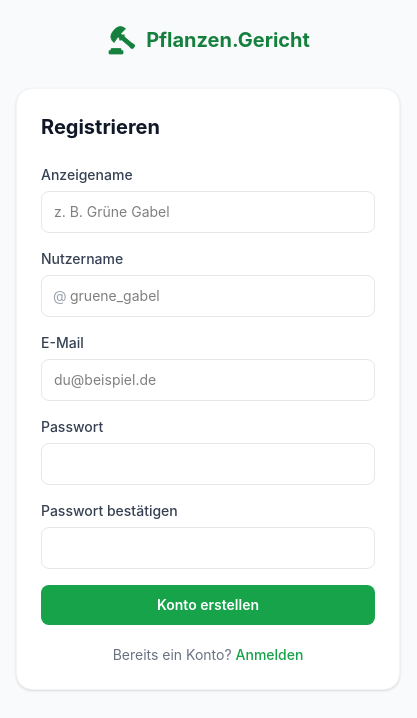
Test: RegisterView › given the username is taken › shows that it is taken
This screenshot has width=417, height=718.
Step 1. Type "taken_name" into the field with id "username" → x=208, y=296, box [41,275,375,317]
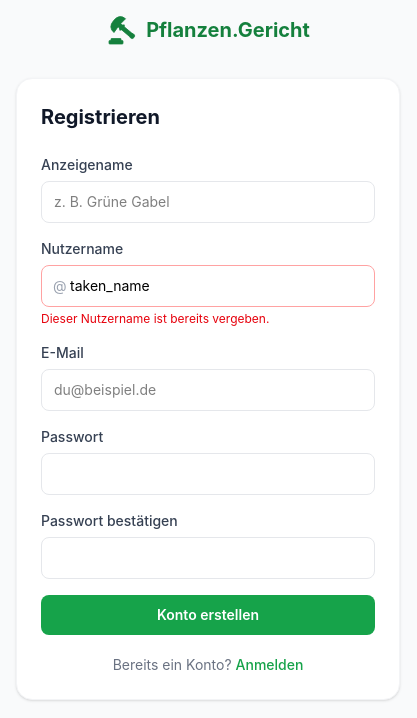
Expected: the text "bereits vergeben" is shown, [41,311,269,326]
